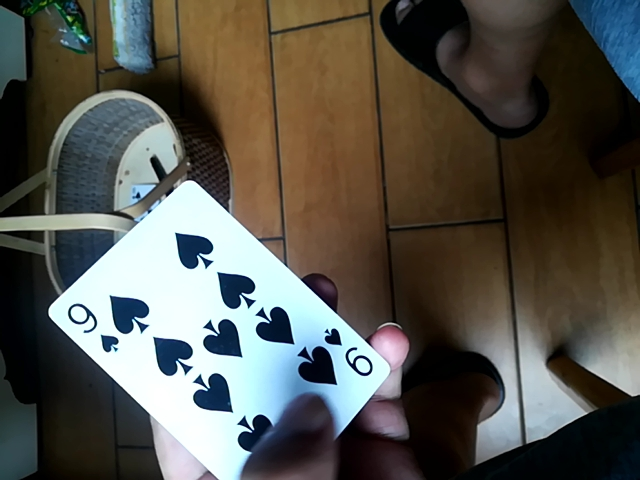ht 9: (48, 167, 411, 477)
